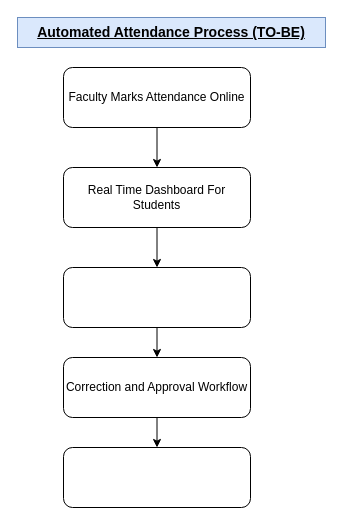
Some shapes in this 343 by 525 pixel diagram are drawn without their labels. The centre of each missing label's shape, as x and y in pixels:
Automated Alerts (SMS & Mail): point (156, 297)
Instant Eligibility Report For Exams: point (156, 477)
